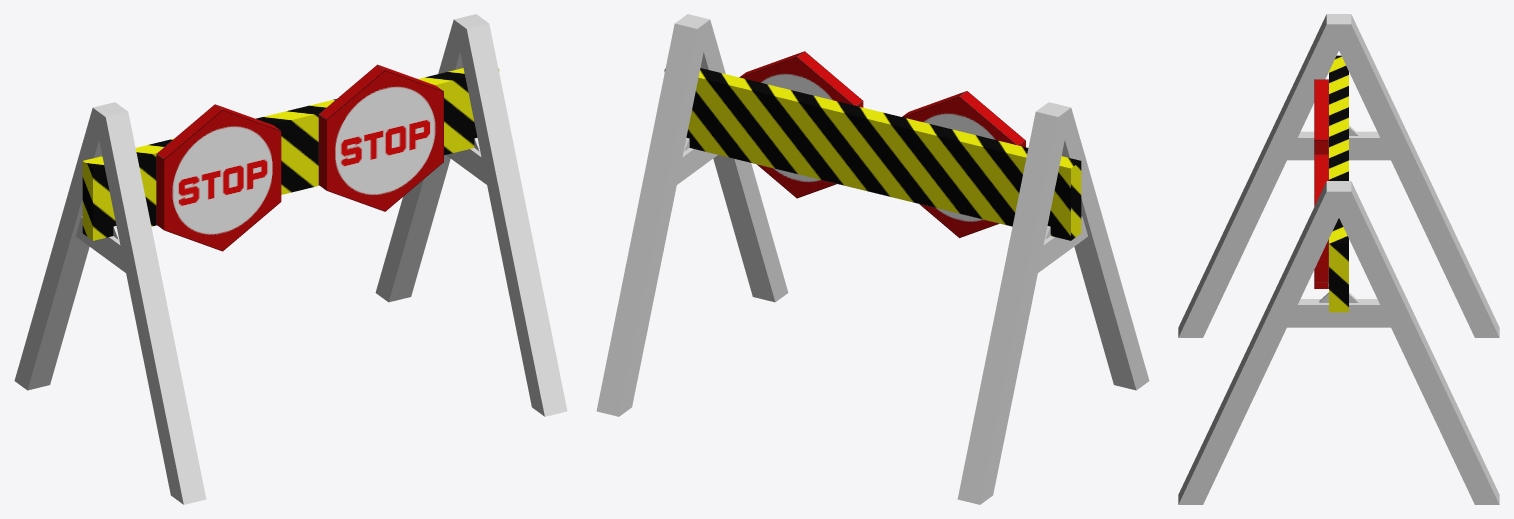
File: Barrier_1-3.fbx
3 renders of one model, left to right at view 1: azimuth 30°, elevation 25°; view 2: azimuth 150°, elevation 25°; view 3: azimuth 270°, elevation 25°, orthographic. The views are drawn at different scales.
Visible parts, largest first — view 1: Barrier_1-3; view 2: Barrier_1-3; view 3: Barrier_1-3.
Boxes of the visible parts, box(x1,y1,x2,y2) form: Barrier_1-3: box(14, 14, 567, 504); Barrier_1-3: box(596, 14, 1149, 504); Barrier_1-3: box(1178, 14, 1499, 504).
Size of the model in its own units: 90 by 70 by 65.
2 materials, 1 textured.
